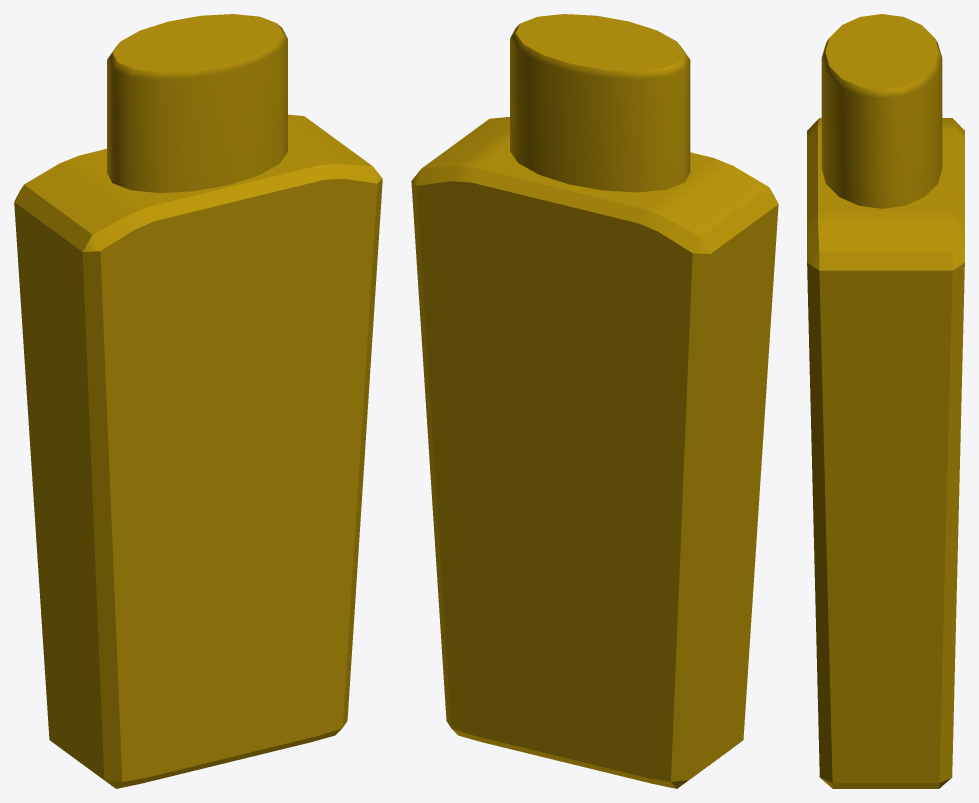
Rendered from Flacon_02.fbx.
3 renders of one model, left to right at view 1: azimuth 30°, elevation 25°; view 2: azimuth 150°, elevation 25°; view 3: azimuth 270°, elevation 25°, orthographic. The views are drawn at different scales.
Parts seen in each view (by area): view 1: Flacon_02; view 2: Flacon_02; view 3: Flacon_02.
Part boxes in pixels (x1,y1,x2,y2): Flacon_02: [14, 14, 382, 788]; Flacon_02: [411, 14, 778, 788]; Flacon_02: [807, 14, 964, 788].
Size of the model in its own units: 34.79 by 77.69 by 16.28.
